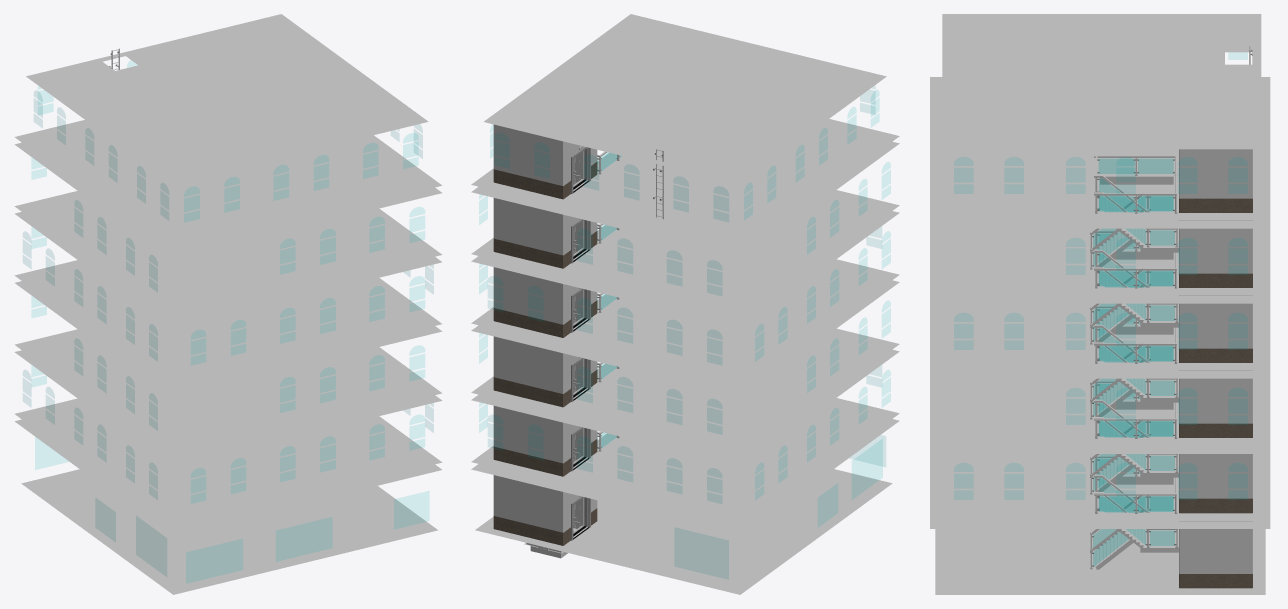
The model's file is SM_Building20_Interior.fbx.
3 renders of one model, left to right at view 1: azimuth 30°, elevation 25°; view 2: azimuth 150°, elevation 25°; view 3: azimuth 270°, elevation 25°, orthographic. The views are drawn at different scales.
Parts seen in each view (by area): view 1: SM_Building20_Interior; view 2: SM_Building20_Interior; view 3: SM_Building20_Interior.
Boxes of the visible parts, x1,y1,x2,y2 form: SM_Building20_Interior: [14, 14, 442, 594]; SM_Building20_Interior: [471, 14, 899, 594]; SM_Building20_Interior: [930, 14, 1270, 594].
Size of the model in its own units: 1689 by 2553 by 1689.
